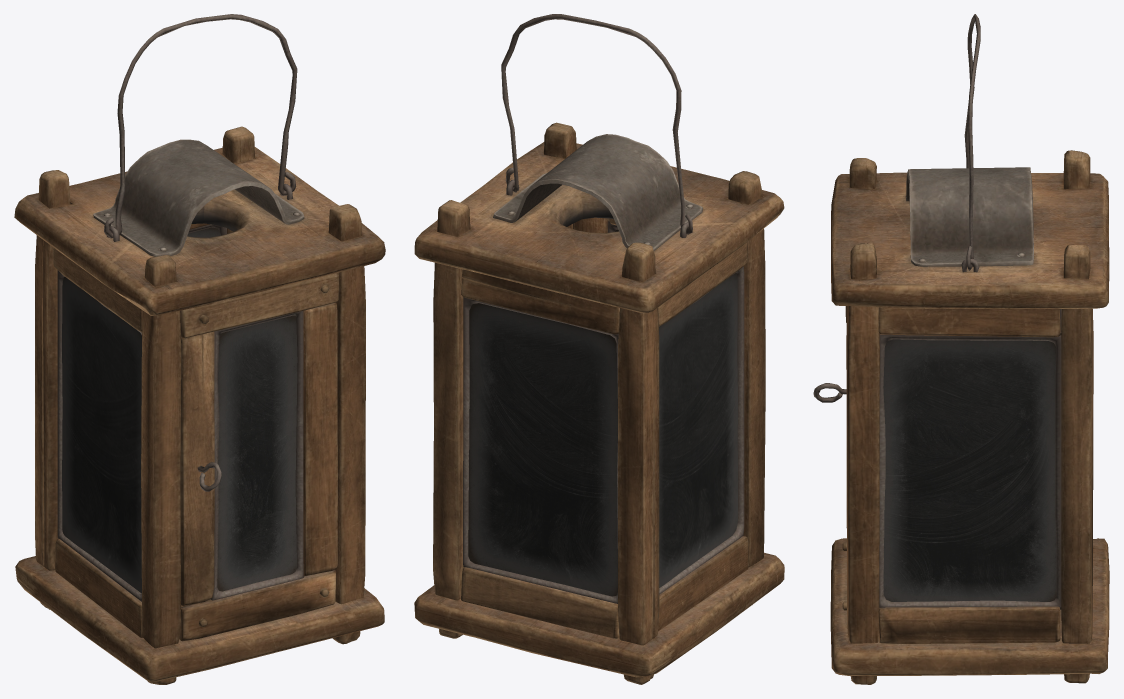
File: wooden_lantern_01.glb
3 views of the same model, side by side, from view 1: azimuth 30°, elevation 25°; view 2: azimuth 150°, elevation 25°; view 3: azimuth 270°, elevation 25° (orthographic).
Visible parts, largest first — view 1: wooden_lantern_01; view 2: wooden_lantern_01; view 3: wooden_lantern_01.
Boxes of the visible parts, x1,y1,x2,y2 form: wooden_lantern_01: (14, 14, 385, 684); wooden_lantern_01: (414, 14, 784, 684); wooden_lantern_01: (813, 14, 1109, 684).
Size of the model in its own units: 0.2211 by 0.5296 by 0.2347.
2 materials, 2 textured.
